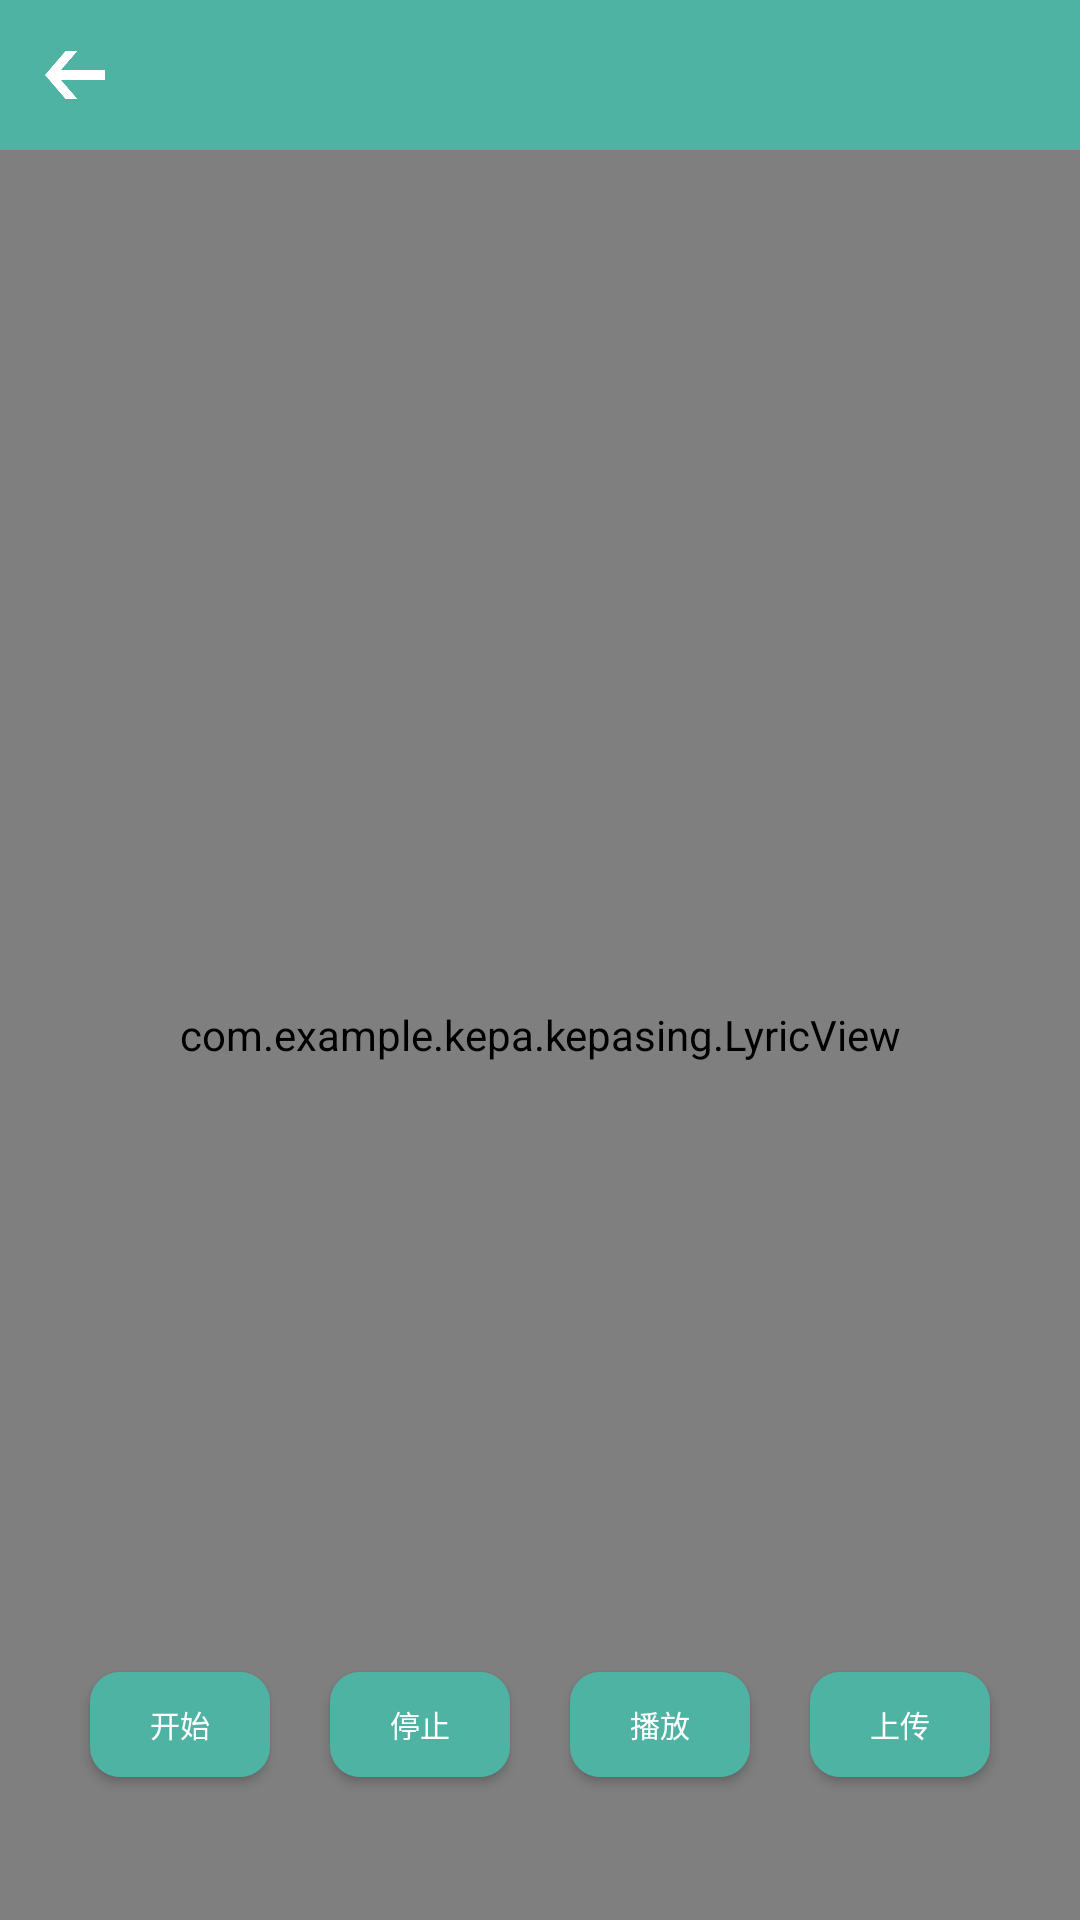

Icons on this 1080 × 1920 Android screen, each with the point to tap as point (x, y):
goback: point (75, 75)
